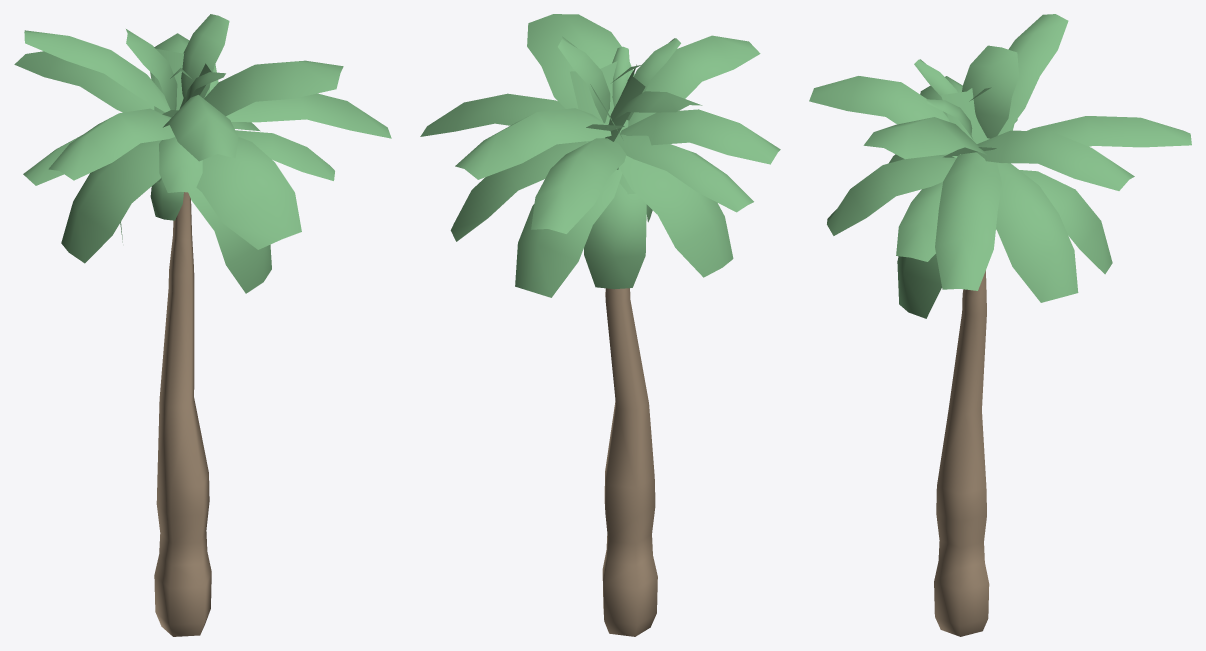
The model's file is tree_palm_b.glb.
3 renders of one model, left to right at view 1: azimuth 30°, elevation 25°; view 2: azimuth 150°, elevation 25°; view 3: azimuth 270°, elevation 25°, orthographic. The views are drawn at different scales.
Visible parts, largest first — view 1: Palm1_VAR4; view 2: Palm1_VAR4; view 3: Palm1_VAR4.
Part boxes in pixels (x1,y1,x2,y2): Palm1_VAR4: (14,14,391,636); Palm1_VAR4: (420,14,780,636); Palm1_VAR4: (809,14,1191,636).
Size of the model in its own units: 3.49 by 5.75 by 3.54.
